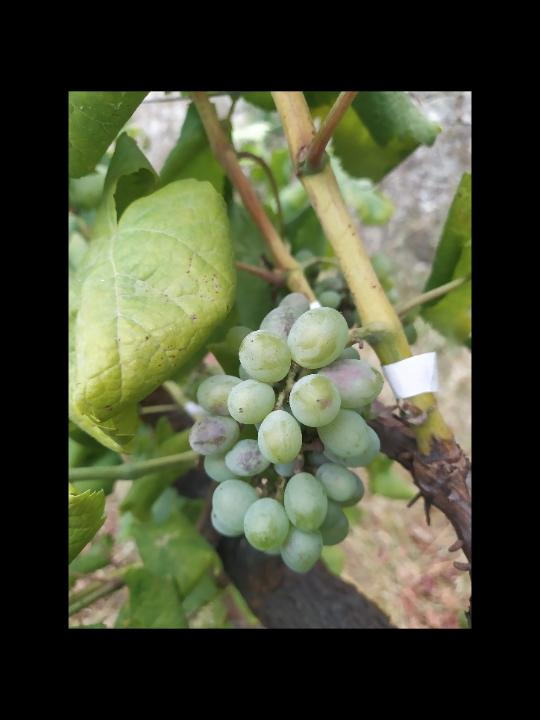grape: (186, 289, 386, 577)
